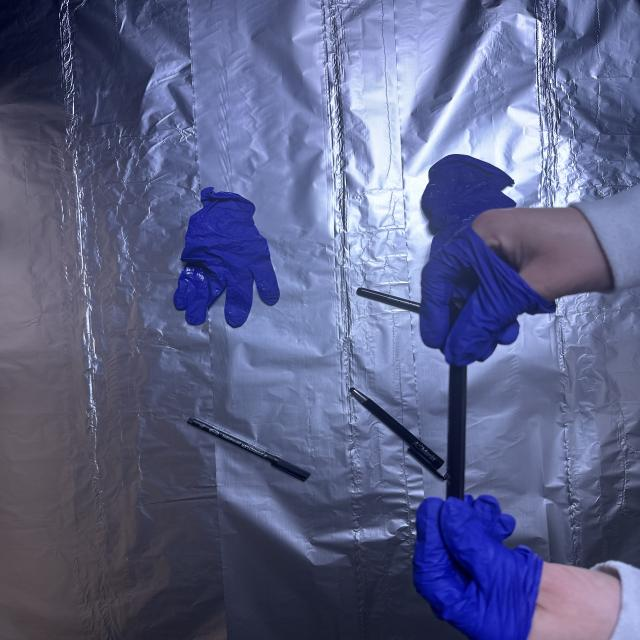glove_partial: (412, 495, 628, 640), (419, 199, 613, 359)
